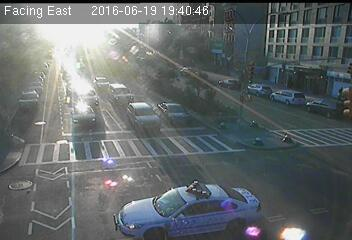neg: (143, 163, 169, 198), (112, 58, 137, 93), (253, 179, 278, 213), (89, 157, 114, 190), (187, 175, 211, 207), (79, 83, 102, 112), (51, 151, 73, 181), (302, 167, 324, 197), (267, 71, 289, 100), (208, 142, 230, 171), (309, 44, 330, 73), (58, 57, 79, 85), (15, 41, 35, 68), (289, 100, 309, 126), (172, 29, 190, 54), (211, 64, 229, 88), (136, 95, 154, 119), (175, 79, 192, 102), (39, 112, 55, 134), (256, 133, 267, 148)
